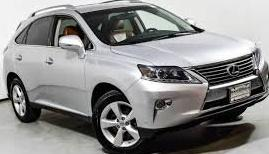SUV: (4, 1, 269, 151)
